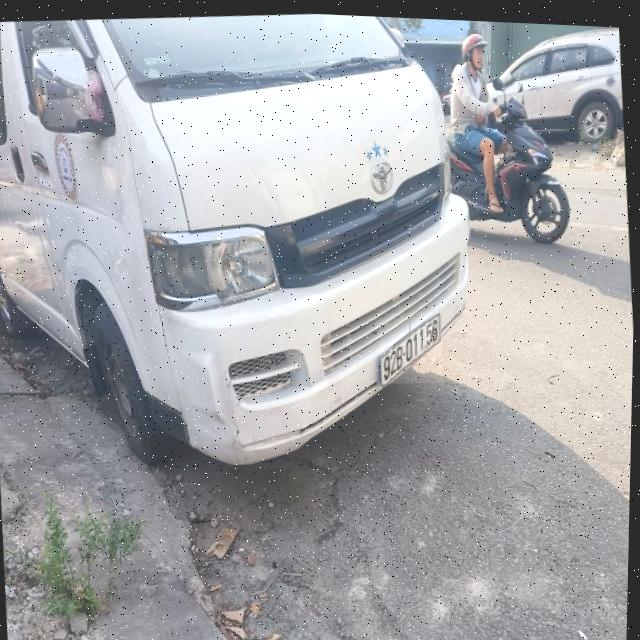car: (0, 0, 493, 500), (480, 21, 626, 168)
motorcycle: (472, 126, 576, 253)
plate: (369, 307, 451, 392)
